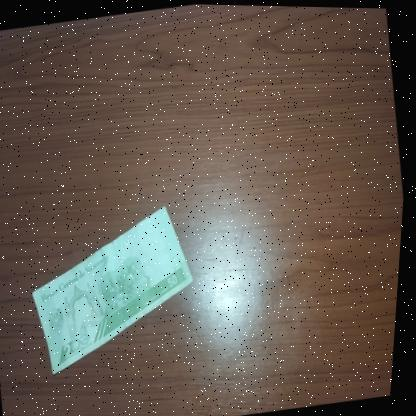fifty-back-vef: (20, 198, 213, 378)
